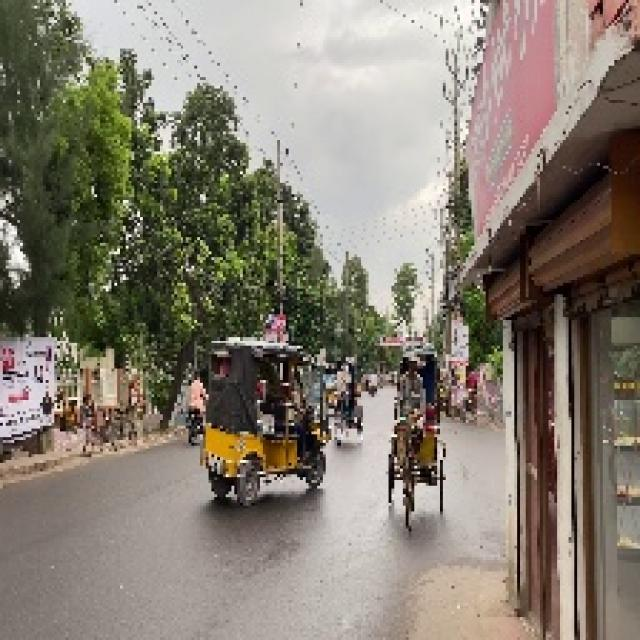rickshaw: (188, 326, 333, 509), (379, 332, 450, 528), (330, 349, 364, 448)
